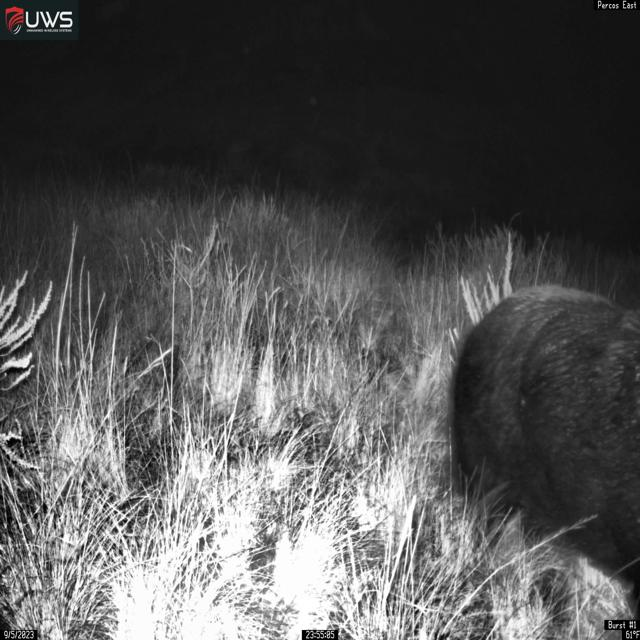pig: (448, 283, 640, 622)
